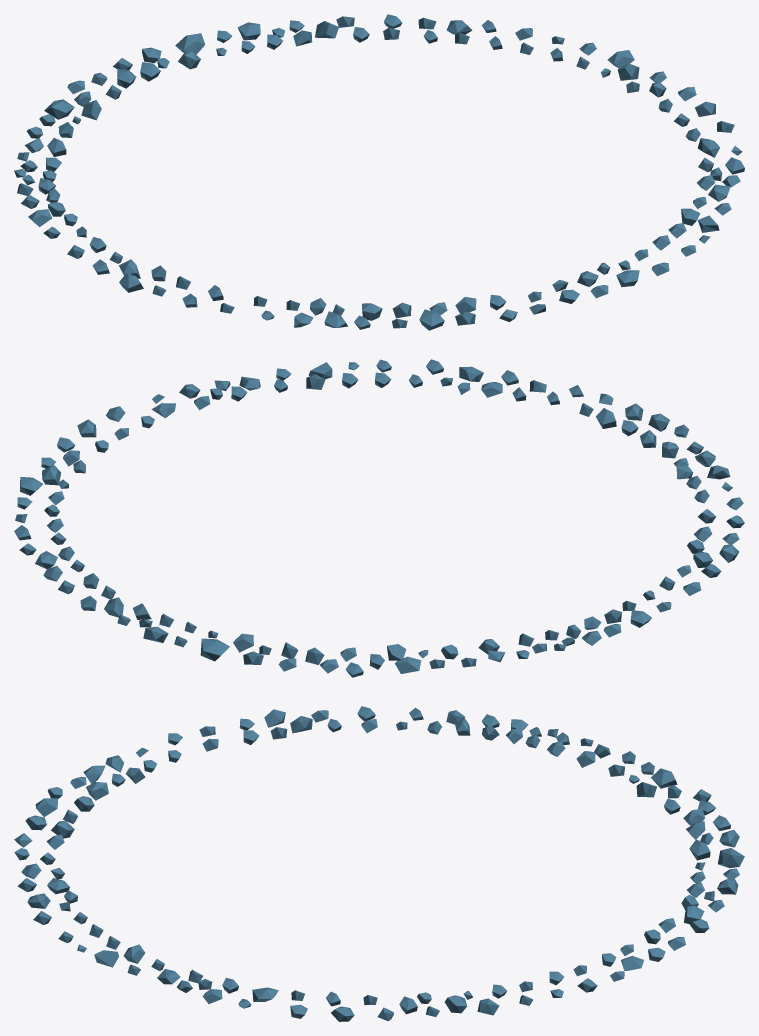
The model's file is Blue_Planet_Ring_02_LOD0.fbx.
3 views of the same model, one above another, from view 1: azimuth 30°, elevation 25°; view 2: azimuth 150°, elevation 25°; view 3: azimuth 270°, elevation 25° (orthographic).
Parts seen in each view (by area): view 1: Blue_Planet_Ring_02_LOD0; view 2: Blue_Planet_Ring_02_LOD0; view 3: Blue_Planet_Ring_02_LOD0.
Boxes of the visible parts, x1,y1,x2,y2 form: Blue_Planet_Ring_02_LOD0: (14, 14, 744, 330); Blue_Planet_Ring_02_LOD0: (14, 359, 744, 677); Blue_Planet_Ring_02_LOD0: (14, 706, 744, 1021).
Bounding box in the file's own units: 34867 × 957 × 34854.
